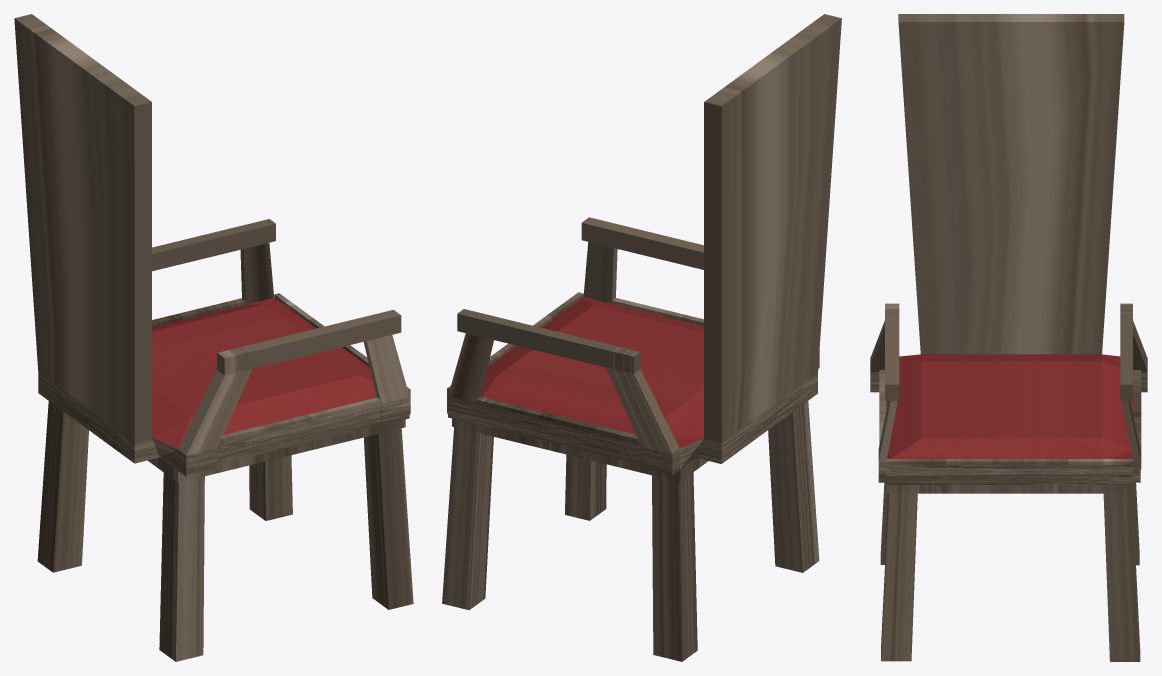
Rendered from SillaCompleta.fbx.
The picture shows the model from 3 angles, left to right: view 1: azimuth 30°, elevation 25°; view 2: azimuth 150°, elevation 25°; view 3: azimuth 270°, elevation 25°; orthographic projection. The views are drawn at different scales.
Parts seen in each view (by area): view 1: pCube2; view 2: pCube2; view 3: pCube2.
Boxes of the visible parts, x1,y1,x2,y2 form: pCube2: (14,14,413,661); pCube2: (442,14,841,661); pCube2: (870,14,1147,661).
Bounding box in the file's own units: 2.41 × 4.73 × 2.27.
2 materials, 2 textured.
